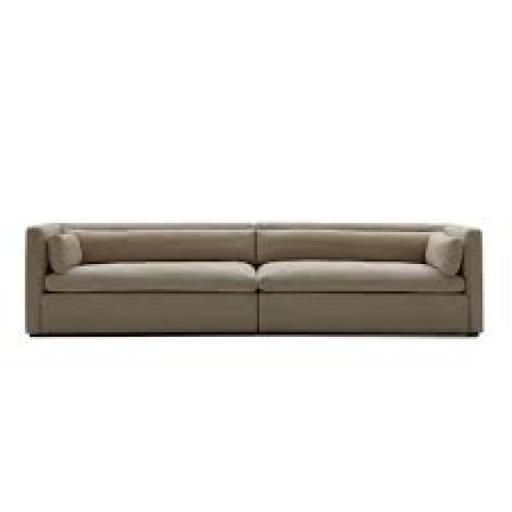sofa: (14, 187, 508, 364)
